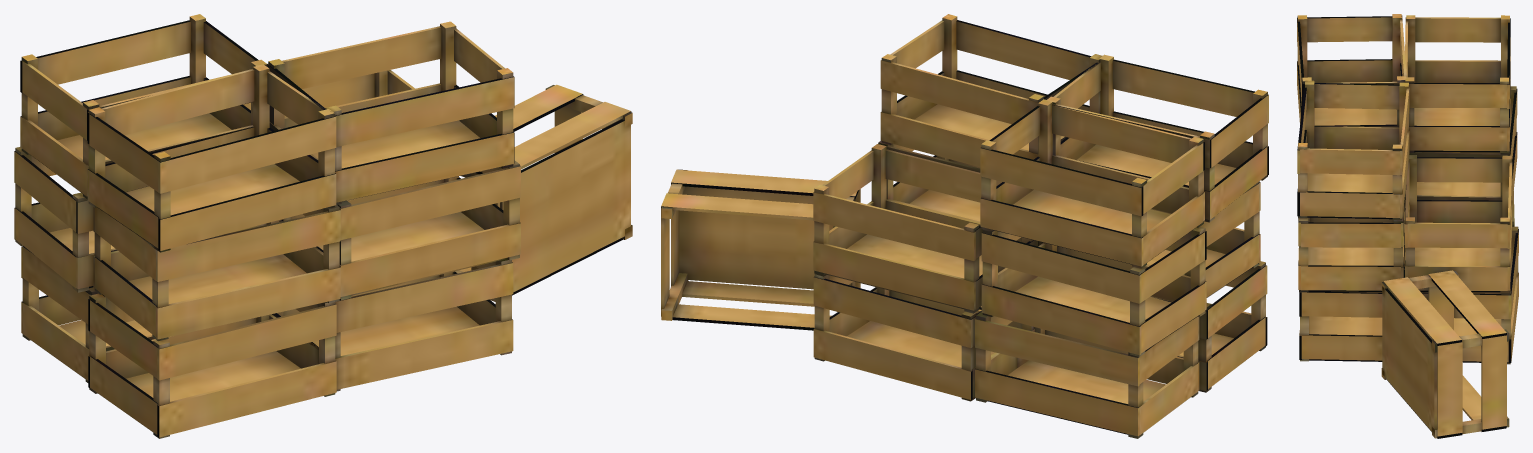
File: crate_pile_lod1_web.glb
3 renders of one model, left to right at view 1: azimuth 30°, elevation 25°; view 2: azimuth 150°, elevation 25°; view 3: azimuth 270°, elevation 25°, orthographic. The views are drawn at different scales.
Visible parts, largest first — view 1: CratePile_Body; view 2: CratePile_Body; view 3: CratePile_Body.
Part boxes in pixels (x1,y1,x2,y2): CratePile_Body: (14, 14, 632, 438); CratePile_Body: (661, 14, 1268, 438); CratePile_Body: (1297, 14, 1518, 438).
Bounding box in the file's own units: 1.91 × 0.9 × 0.8433.
1 material, 1 textured.
